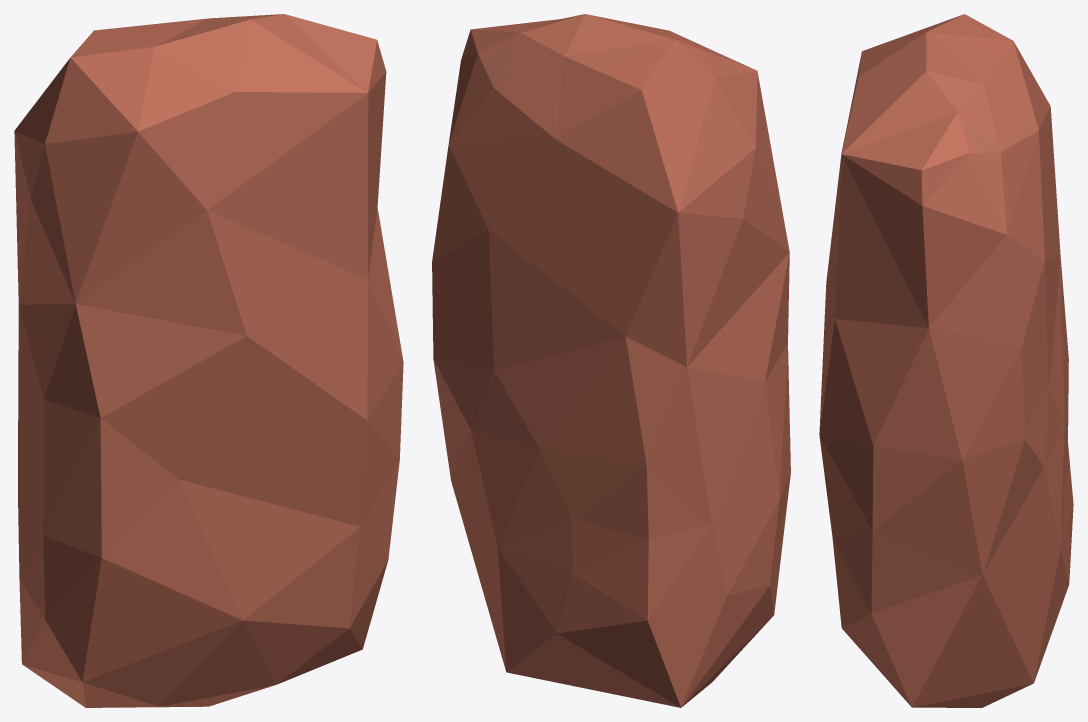
The model's file is boulder_009.fbx.
3 renders of one model, left to right at view 1: azimuth 30°, elevation 25°; view 2: azimuth 150°, elevation 25°; view 3: azimuth 270°, elevation 25°, orthographic. The views are drawn at different scales.
Parts seen in each view (by area): view 1: boulder_009; view 2: boulder_009; view 3: boulder_009.
Boxes of the visible parts, bbox=[...] form: boulder_009: bbox=[14, 14, 403, 707]; boulder_009: bbox=[432, 14, 790, 707]; boulder_009: bbox=[819, 14, 1073, 707].
Size of the model in its own units: 678 by 482 by 1289.
